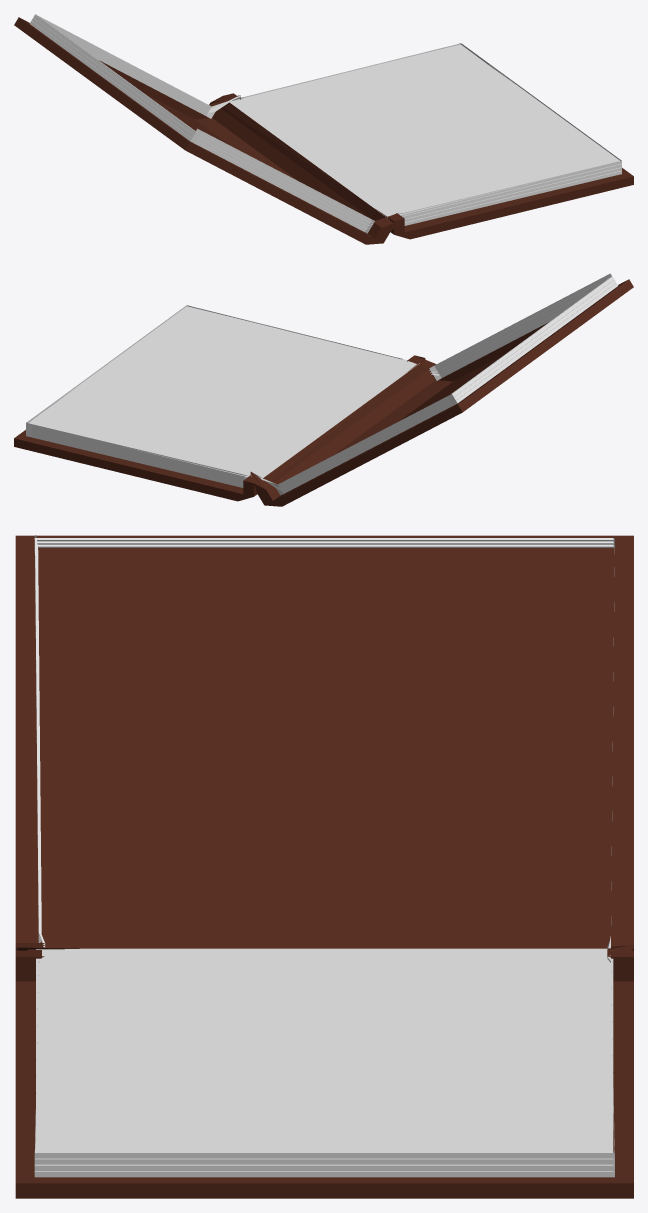
The model's file is buchFliegend2.glb.
3 renders of one model, top to bottom at view 1: azimuth 30°, elevation 25°; view 2: azimuth 150°, elevation 25°; view 3: azimuth 270°, elevation 25°, orthographic. The views are drawn at different scales.
Visible parts, largest first — view 1: Plane.001, Plane; view 2: Plane.001, Plane; view 3: Plane, Plane.001.
Boxes of the visible parts, x1,y1,x2,y2 form: Plane.001: (230, 44, 619, 217); Plane: (14, 14, 633, 244); Plane.001: (28, 306, 419, 477); Plane: (14, 273, 633, 506); Plane: (15, 535, 633, 1198); Plane.001: (36, 948, 613, 1152).
Size of the model in its own units: 4.46 by 1.49 by 2.95.
